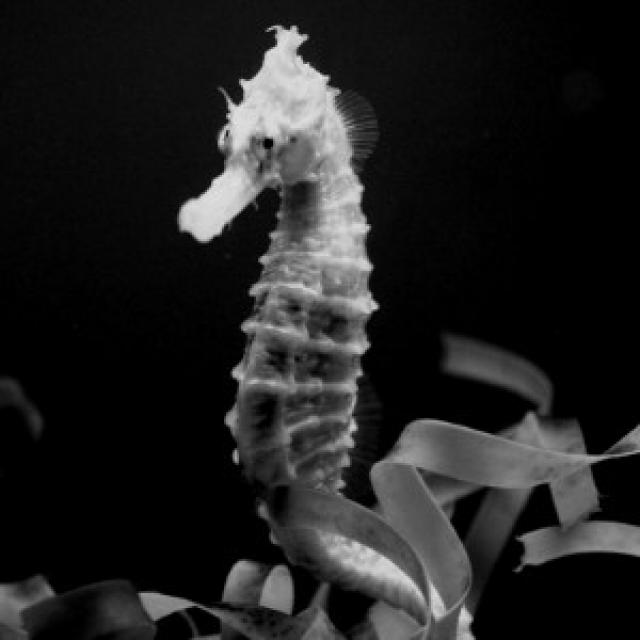Seahorse: (173, 14, 390, 562)
